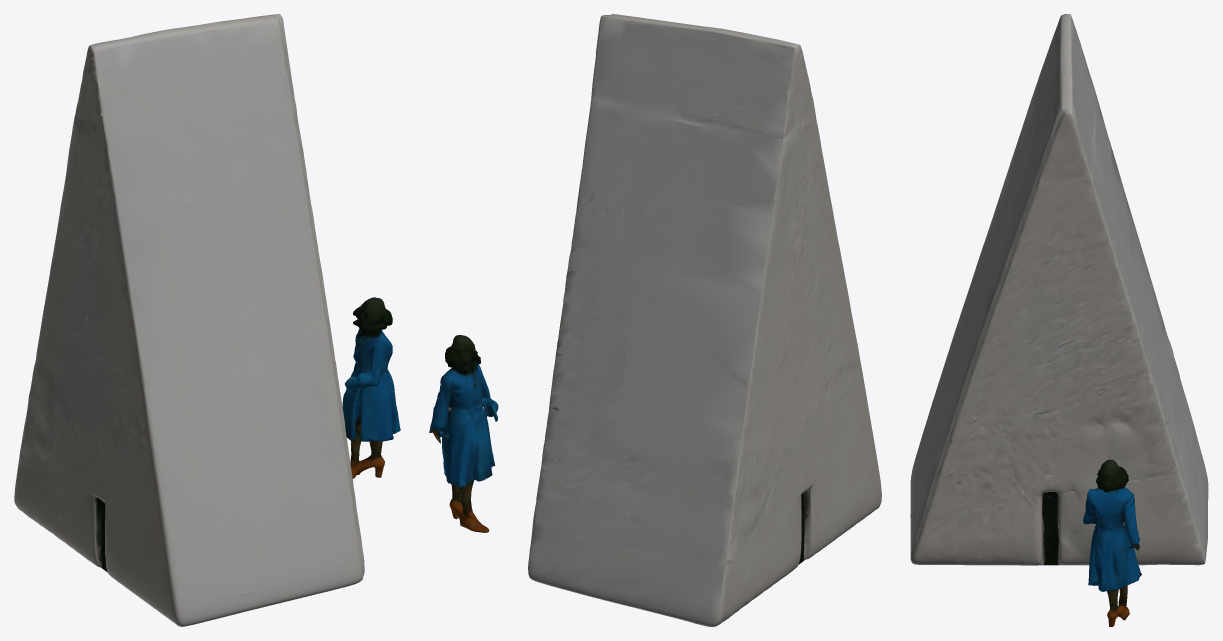
Rendered from daspieces1-opt-v6.glb.
3 renders of one model, left to right at view 1: azimuth 30°, elevation 25°; view 2: azimuth 150°, elevation 25°; view 3: azimuth 270°, elevation 25°, orthographic. The views are drawn at different scales.
Visible parts, largest first — view 1: daspieces; view 2: daspieces; view 3: daspieces.
Boxes of the visible parts, x1,y1,x2,y2 form: daspieces: (14,14,400,626); daspieces: (429,14,881,626); daspieces: (910,14,1208,626).
Size of the model in its own units: 0.6327 by 0.9551 by 0.5431.
1 material, 1 textured.
